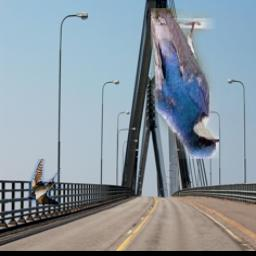Swallow: (152, 9, 220, 160), (28, 160, 71, 205)
